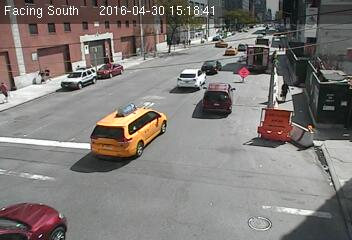neg: (307, 88, 333, 123), (223, 100, 246, 131), (119, 107, 140, 136), (297, 120, 316, 145), (13, 36, 28, 56), (92, 61, 106, 80), (329, 14, 341, 30), (68, 62, 78, 76), (252, 29, 262, 43), (58, 24, 68, 37), (325, 41, 334, 54), (112, 54, 121, 66)
pos: (278, 80, 295, 102), (43, 66, 55, 82), (33, 68, 44, 82), (280, 43, 288, 53), (277, 44, 283, 52)
